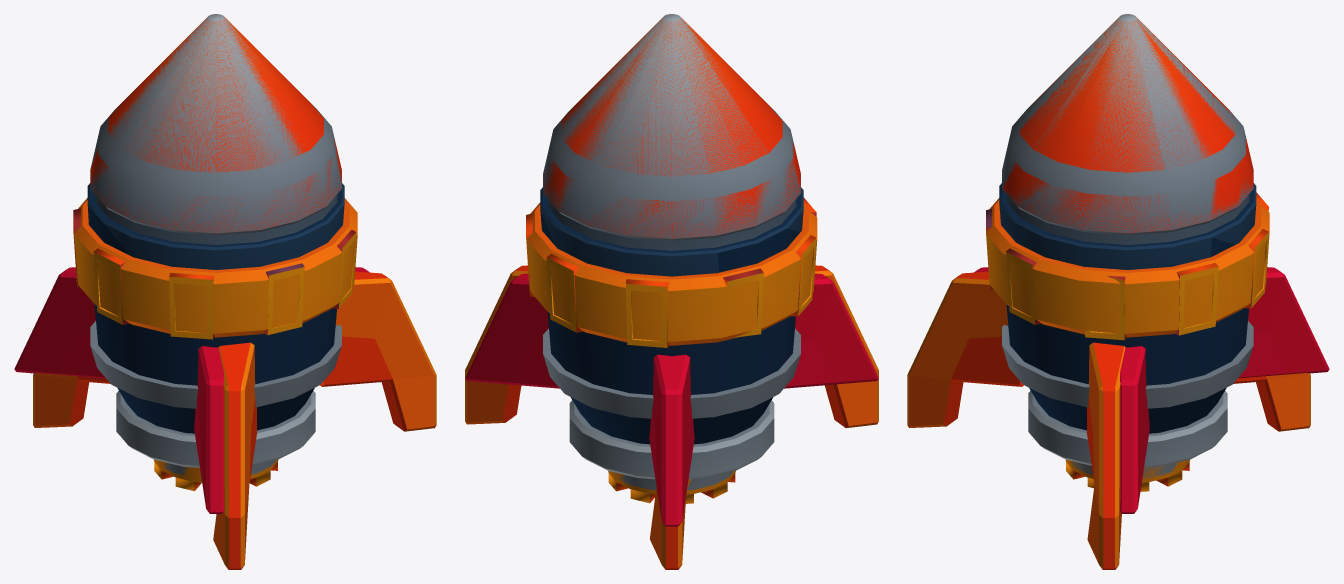
The model's file is Boom02.fbx.
The picture shows the model from 3 angles, left to right: view 1: azimuth 30°, elevation 25°; view 2: azimuth 150°, elevation 25°; view 3: azimuth 270°, elevation 25°; orthographic projection. The views are drawn at different scales.
Visible parts, largest first — view 1: Booom02_LV1, Booom02_LV3, Booom02_LV2; view 2: Booom02_LV1, Booom02_LV3, Booom02_LV2; view 3: Booom02_LV1, Booom02_LV3, Booom02_LV2.
Part boxes in pixels (x1=…): Booom02_LV1: x1=14, y1=14, x2=369, y2=513; Booom02_LV3: x1=33, y1=17, x2=436, y2=569; Booom02_LV2: x1=74, y1=198, x2=357, y2=482; Booom02_LV1: x1=465, y1=14, x2=878, y2=526; Booom02_LV3: x1=465, y1=18, x2=878, y2=569; Booom02_LV2: x1=526, y1=202, x2=817, y2=494; Booom02_LV1: x1=974, y1=14, x2=1329, y2=513; Booom02_LV3: x1=907, y1=16, x2=1310, y2=569; Booom02_LV2: x1=986, y1=198, x2=1269, y2=482.
Size of the model in its own units: 0.6587 by 0.8543 by 0.7237.
